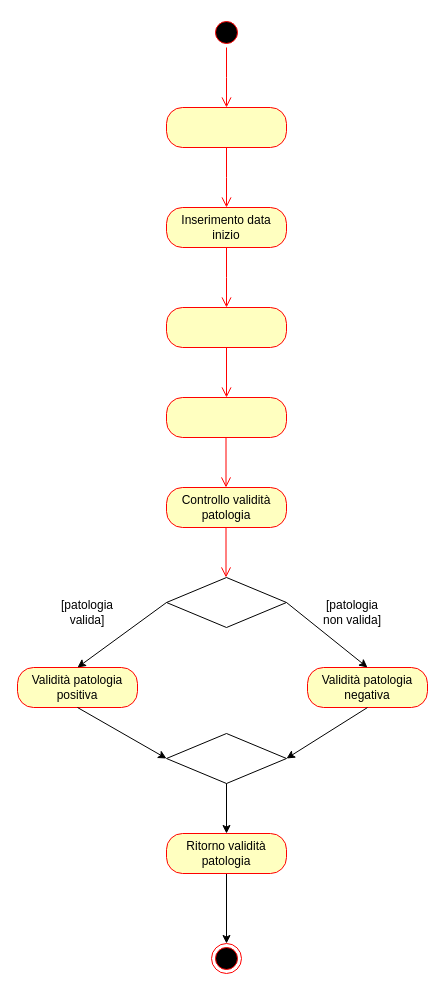
Some shapes in this 445 by 991 pixel diagram are drawn without their labels. Here are the shapes that lost their labels. From the top down, the box of each, then its label:
(166, 106, 286, 148): Inserimento nome patologia
(166, 306, 286, 348): Inserimento eventuale data fine
(166, 396, 286, 438): Inserimento descrizione
